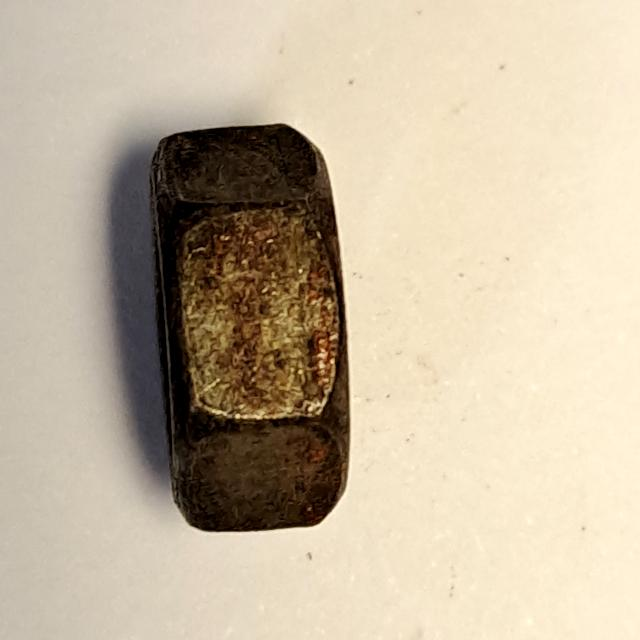Side_Rust: (134, 102, 370, 555)
